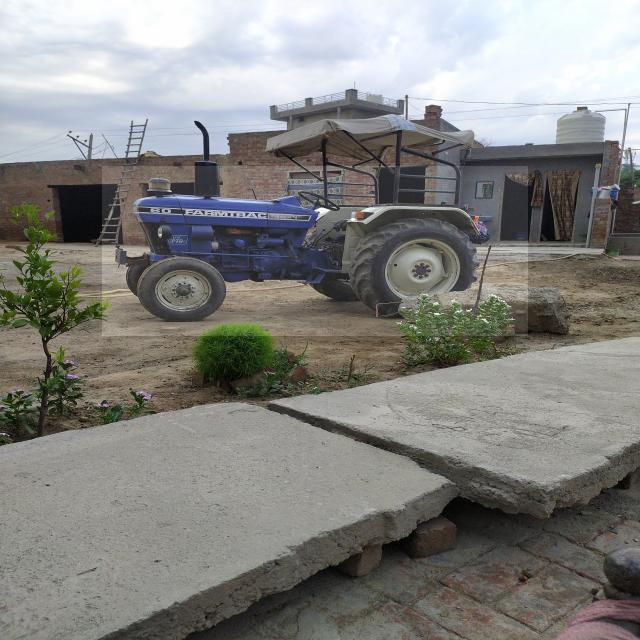Tractot: (102, 166, 528, 336)
